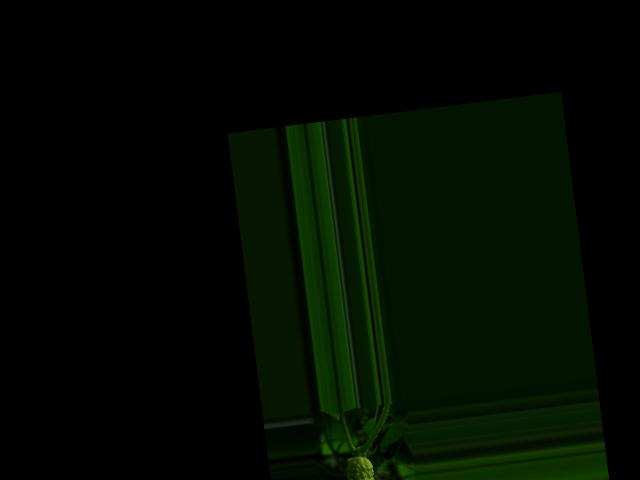cucumber: (344, 454, 380, 480)
